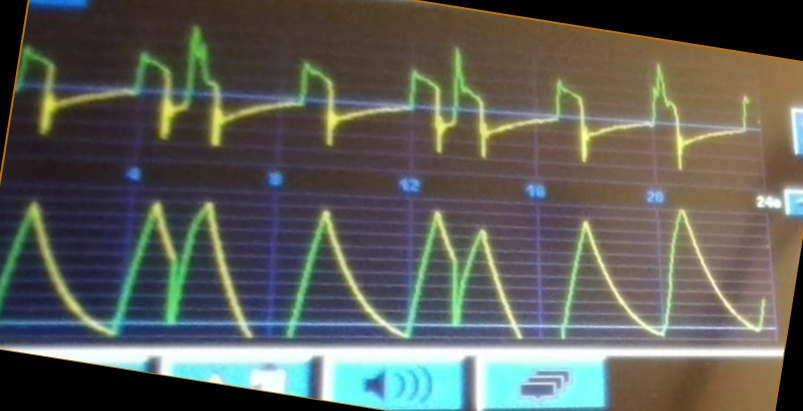Double_Triggering Flow: (22, 22, 520, 158)
Double_Triggering Volume: (4, 197, 660, 338)
